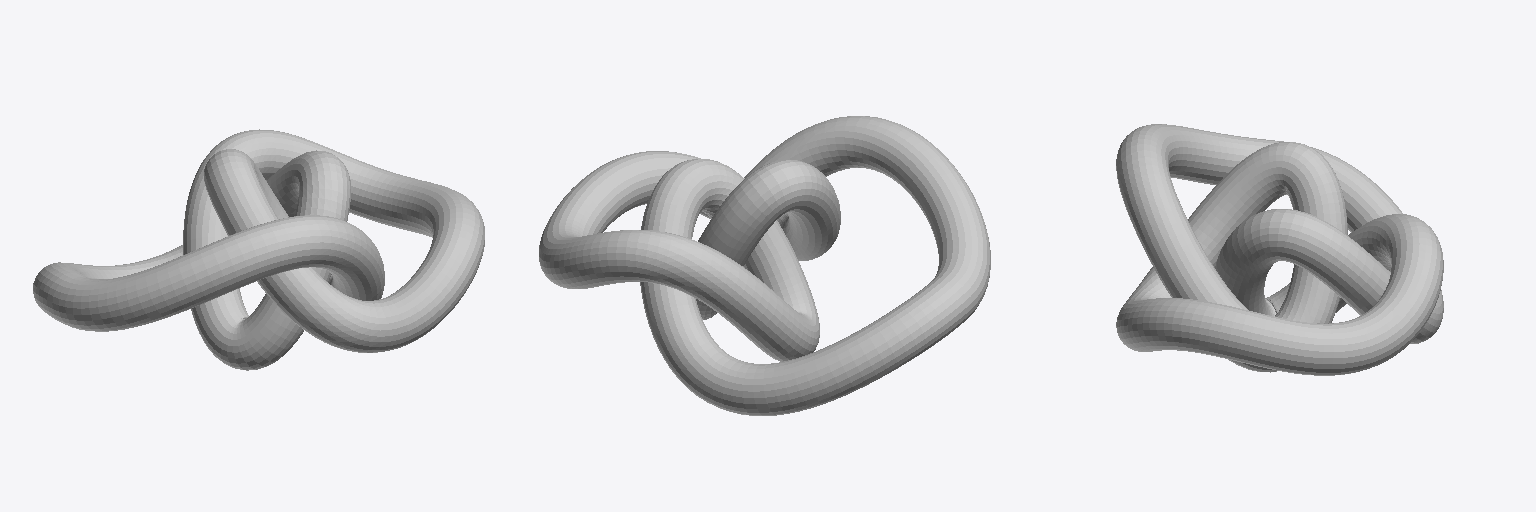
The model's file is torusknot2.obj.
The picture shows the model from 3 angles: view 1: azimuth 30°, elevation 25°; view 2: azimuth 150°, elevation 25°; view 3: azimuth 270°, elevation 25°; orthographic projection.
Parts seen in each view (by area): view 1: TorusKnot.001; view 2: TorusKnot.001; view 3: TorusKnot.001.
Boxes of the visible parts, <box> form: TorusKnot.001: <box>33,129,484,370</box>; TorusKnot.001: <box>539,116,990,415</box>; TorusKnot.001: <box>1116,124,1443,375</box>.
Size of the model in its own units: 8.99 by 4.3 by 6.26.